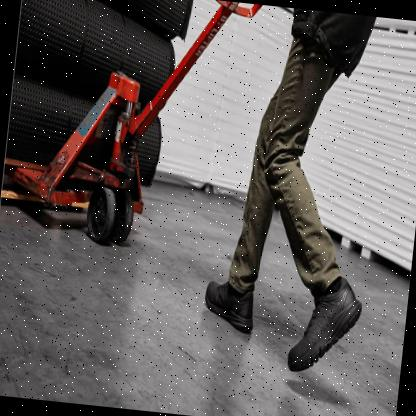bota: (284, 270, 367, 380), (200, 276, 260, 336)
